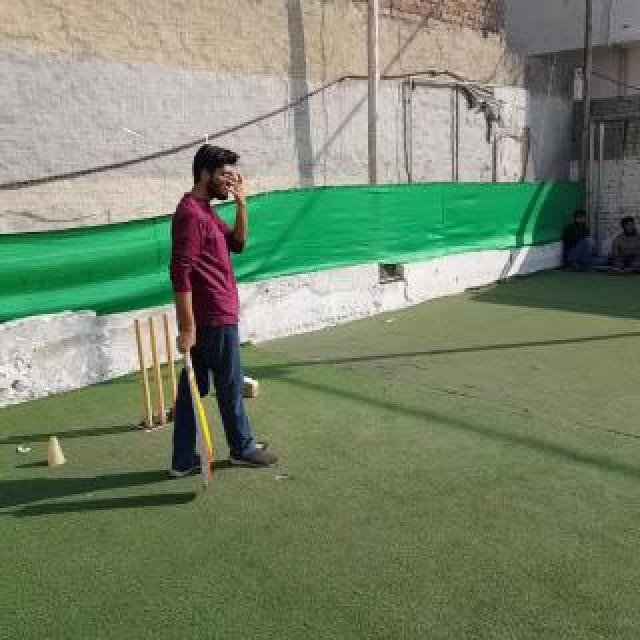bat: (178, 326, 214, 490)
